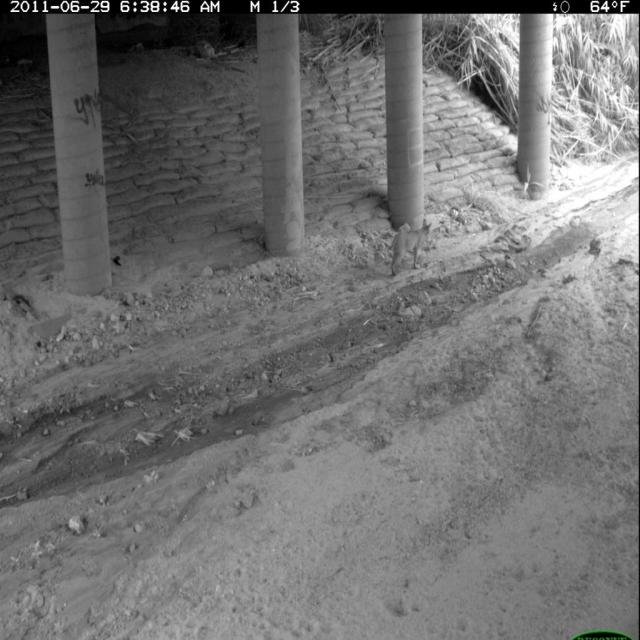bobcat: (384, 216, 436, 281)
